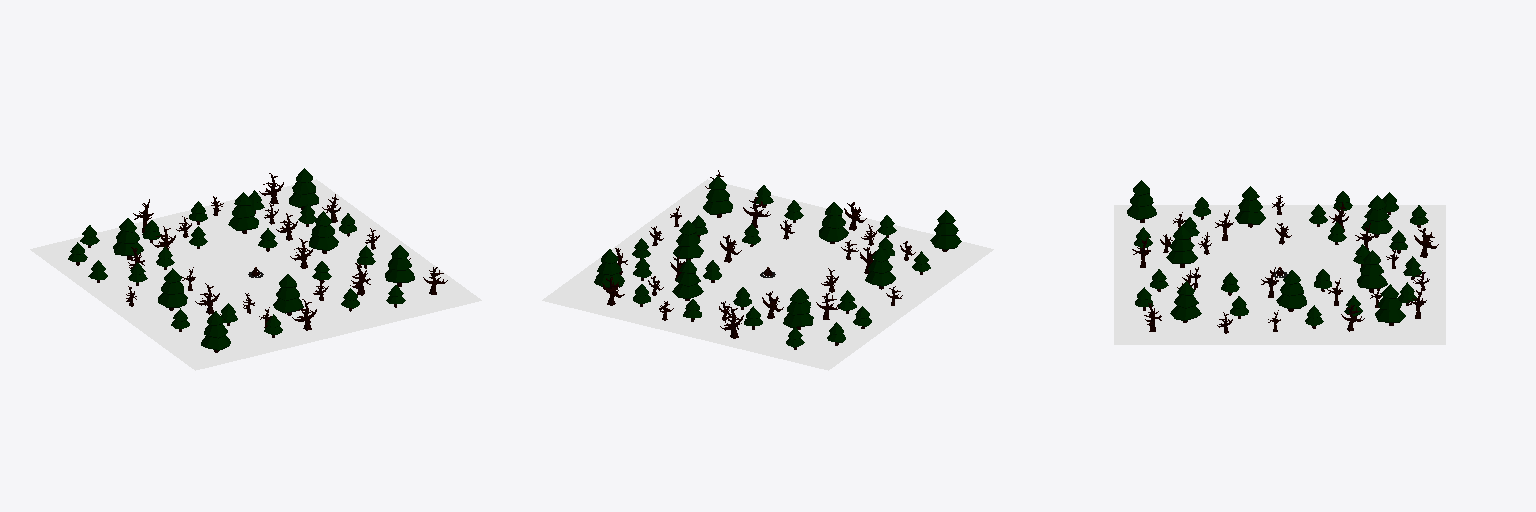
File: micro_scene_002.obj
3 views of the same model, side by side, from view 1: azimuth 30°, elevation 25°; view 2: azimuth 150°, elevation 25°; view 3: azimuth 270°, elevation 25° (orthographic).
Parts seen in each view (by area): view 1: Ground_Ground, Fir.5_Green, Fir.8_Green, Fir.2_Green, Fir.3_Green, Fir.4_Green, Fir.7_Green, Fir.1_Green, Fir.6_Green; view 2: Ground_Ground, Fir.3_Green, Fir.1_Green, Fir.6_Green, Fir.2_Green, Fir.7_Green, Fir.5_Green, Fir.4_Green, Fir.8_Green; view 3: Ground_Ground, Fir.4_Green, Fir.7_Green, Fir.1_Green, Fir.8_Green, Fir.3_Green, Fir.2_Green, Fir.5_Green, Fir.6_Green.
Part boxes in pixels (x1,y1,x2,y2): Ground_Ground: (30, 179, 481, 370); Fir.5_Green: (158, 268, 187, 307); Fir.8_Green: (289, 168, 318, 207); Fir.2_Green: (385, 245, 414, 282); Fir.3_Green: (273, 274, 303, 313); Fir.4_Green: (309, 211, 338, 250); Fir.7_Green: (228, 192, 258, 230); Fir.1_Green: (201, 311, 230, 350); Fir.6_Green: (113, 218, 143, 255); Ground_Ground: (542, 179, 993, 370); Fir.3_Green: (819, 202, 848, 241); Fir.1_Green: (930, 210, 961, 249); Fir.6_Green: (783, 289, 813, 327); Fir.2_Green: (703, 176, 732, 214); Fir.7_Green: (672, 259, 703, 298); Fir.5_Green: (865, 247, 895, 286); Fir.4_Green: (673, 220, 703, 258); Fir.8_Green: (594, 249, 624, 287); Ground_Ground: (1114, 205, 1445, 344); Fir.4_Green: (1276, 270, 1306, 308); Fir.7_Green: (1357, 250, 1387, 288); Fir.1_Green: (1127, 180, 1156, 219); Fir.8_Green: (1375, 284, 1405, 322); Fir.3_Green: (1166, 226, 1197, 263); Fir.2_Green: (1170, 281, 1201, 320); Fir.5_Green: (1235, 186, 1265, 224); Fir.6_Green: (1361, 195, 1392, 234).
Size of the model in its own units: 10 by 1.49 by 10.